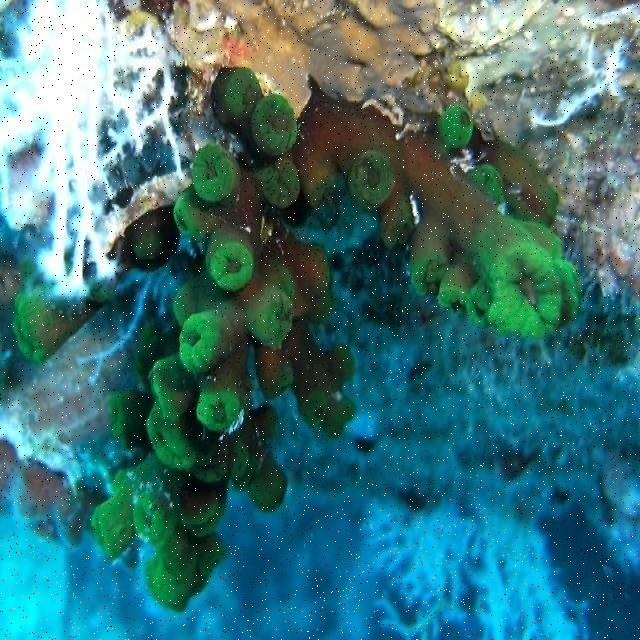fish: (108, 204, 178, 270)
reefs: (89, 64, 581, 614)
